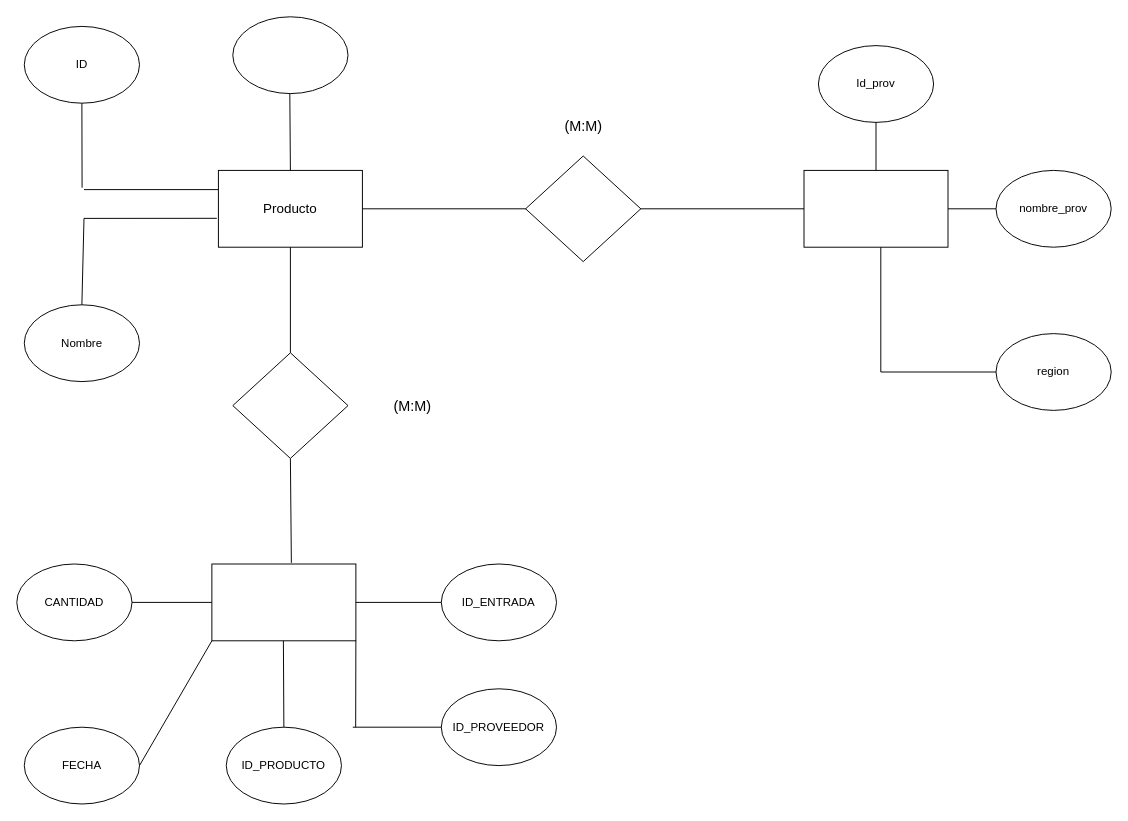
The diagram is 1128 pixels wide and 821 high, and some of its shapes have lost their labels. The centre of each missing label's shape, as x and y in pixels:
"Enntrada de producto" goes at (283,602).
"Entrar" goes at (290,405).
"Proveedor" goes at (875,208).
"Proveer" goes at (583,208).
"STOCK" goes at (290,55).
